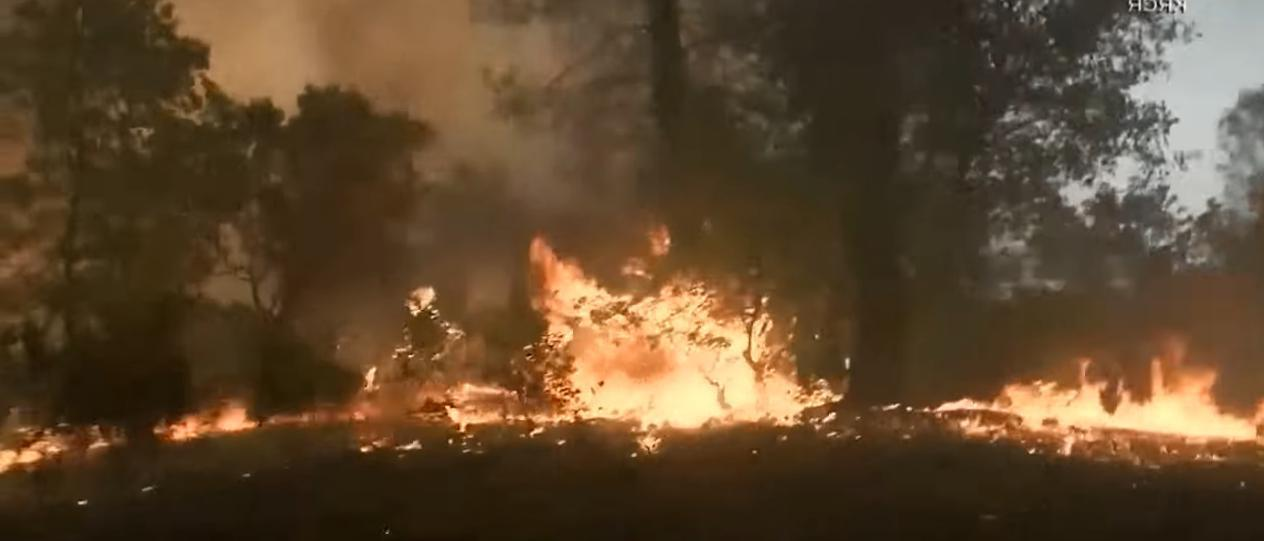Fire: (336, 210, 864, 464), (924, 322, 1261, 464), (4, 384, 266, 480)
